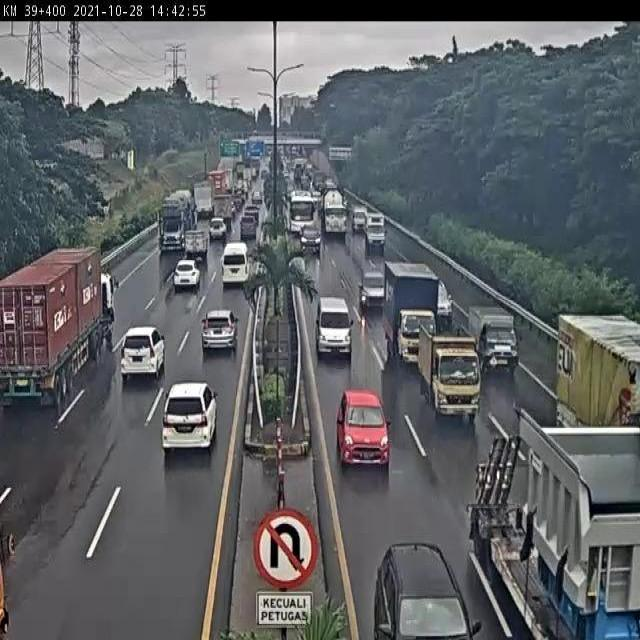big truck: (0, 248, 118, 413)
bus-s-: (317, 294, 352, 362)
car: (336, 391, 391, 469), (161, 380, 217, 451), (120, 327, 165, 382), (201, 310, 238, 350), (222, 241, 250, 287), (361, 275, 388, 316), (434, 276, 454, 323), (174, 259, 201, 288)
small truck: (185, 229, 209, 260)
truck-m-: (418, 323, 483, 425), (385, 260, 440, 373)
truck-s-: (468, 302, 520, 374)
